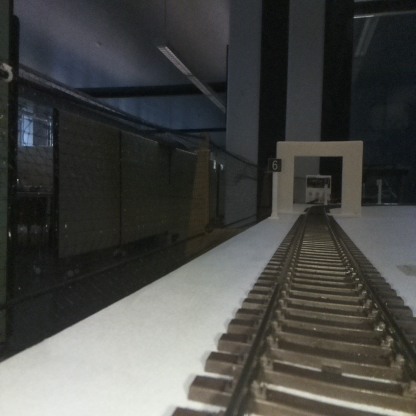black-info-6: (268, 158, 281, 217)
